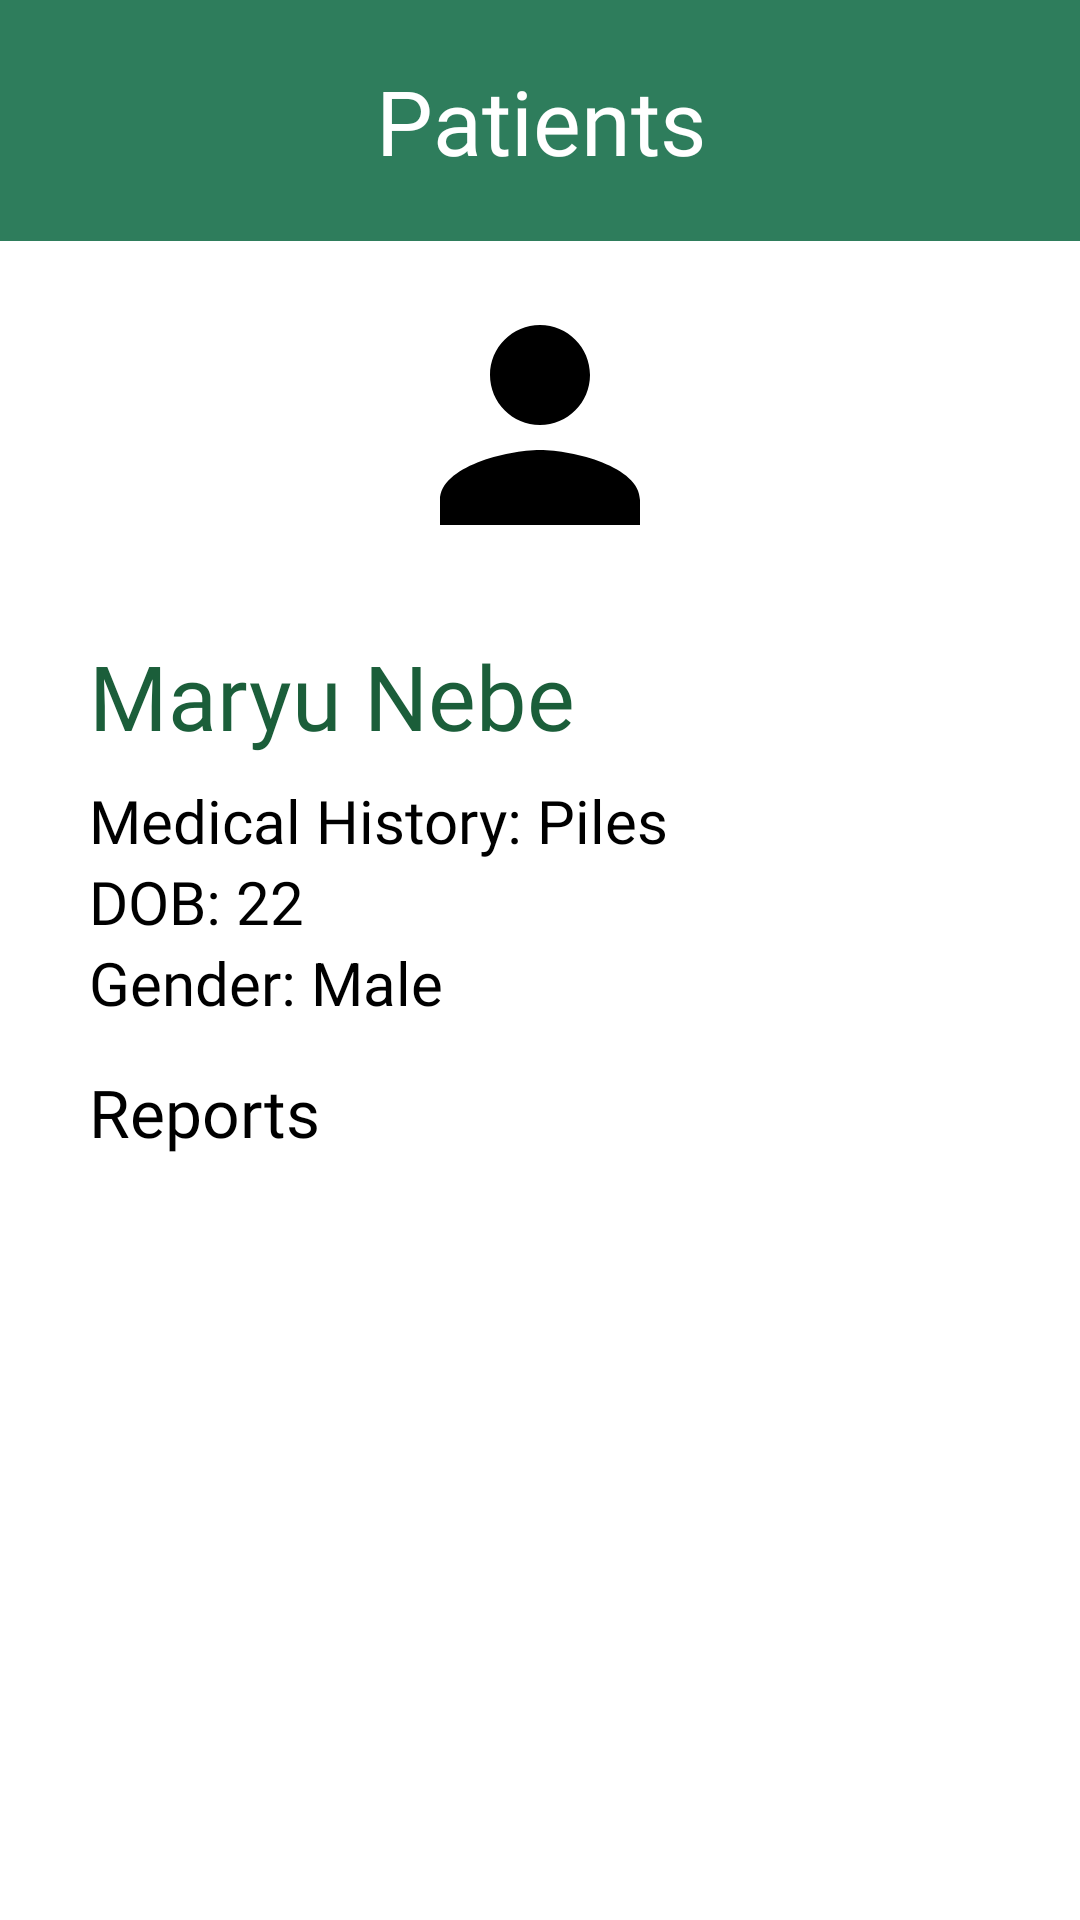

Where icons sit on this 1080*1920 app screen, as (x1,y1,x2,y2):
profile: (440,325,640,525)
